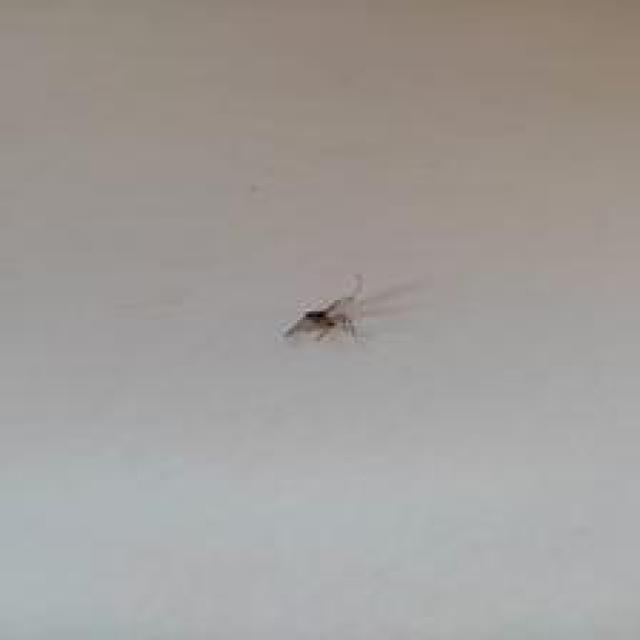Culex: (283, 271, 366, 343)
